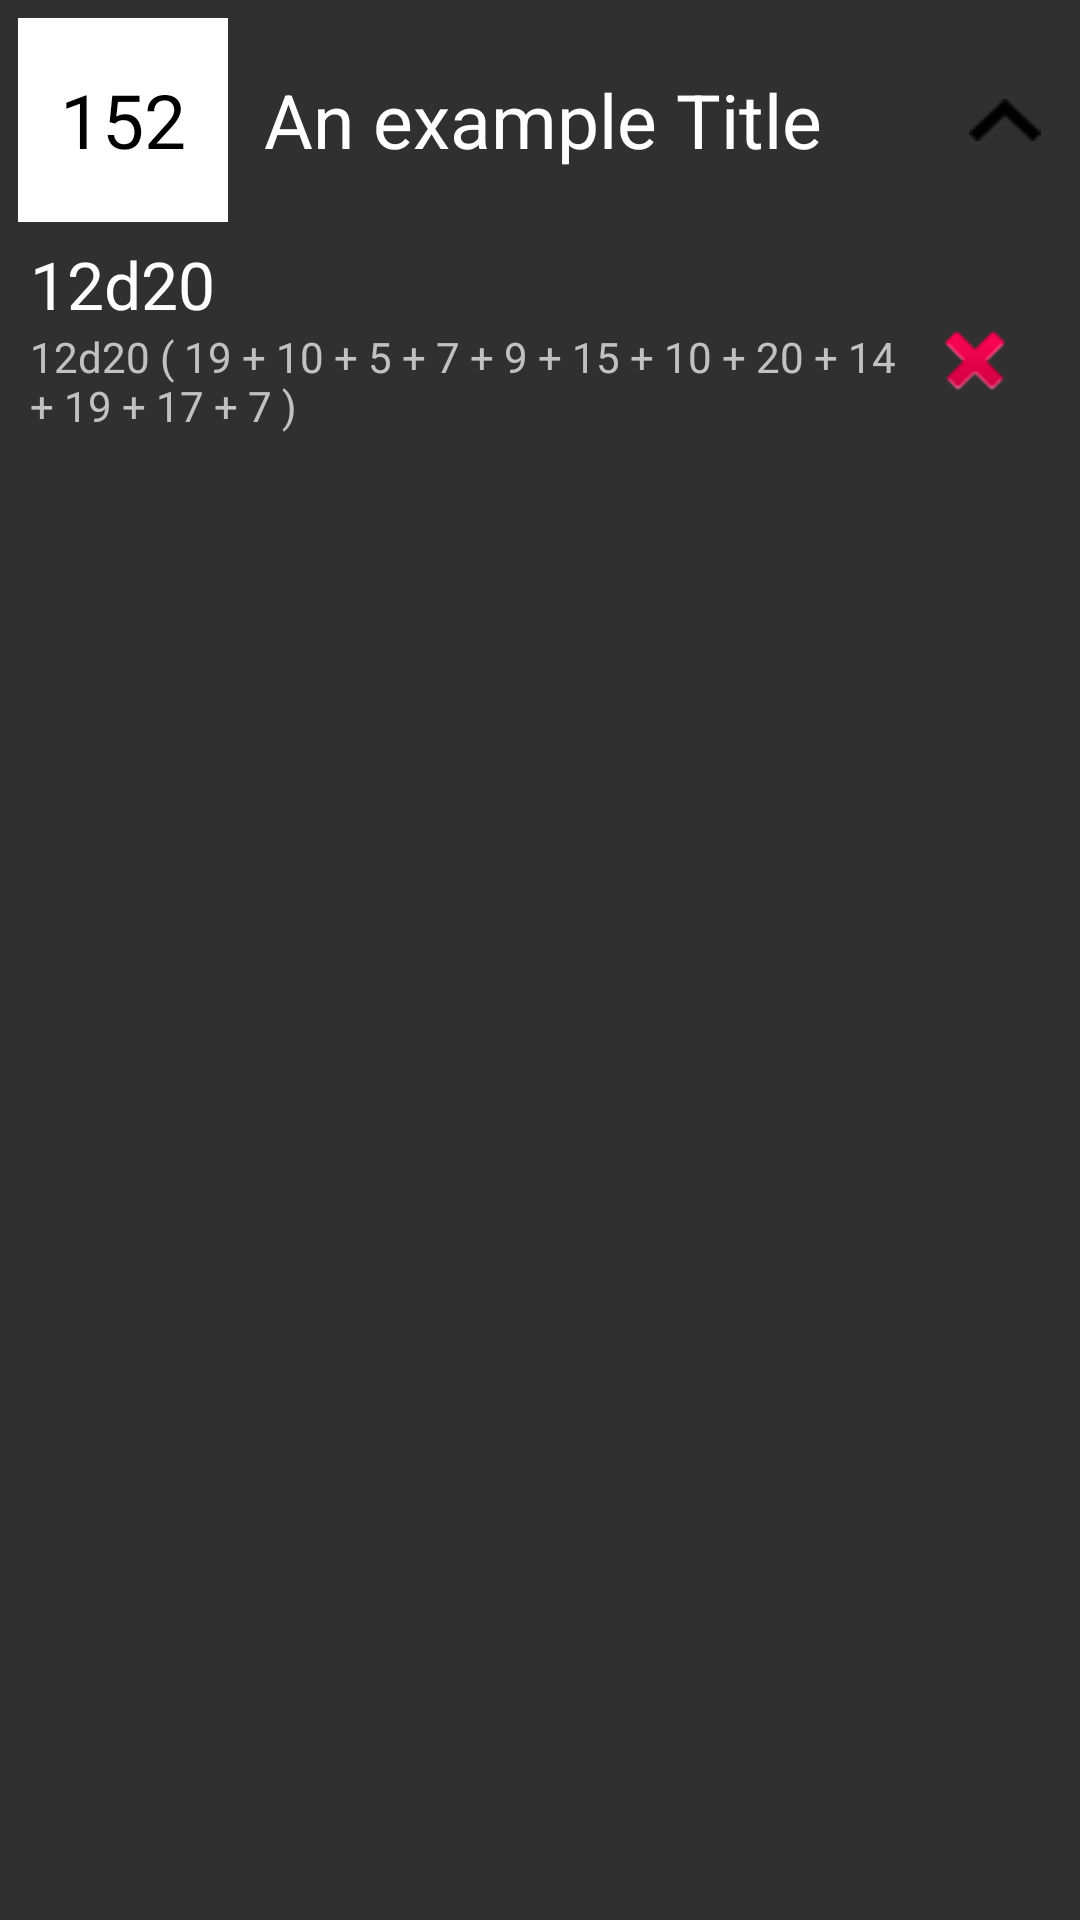

Icon bounding boxes for this 1080×1920 phone screenshot, format [x1,y1,x2,y2]:
arrow up md: [969,99,1041,141]
delete: [945,331,1005,390]
